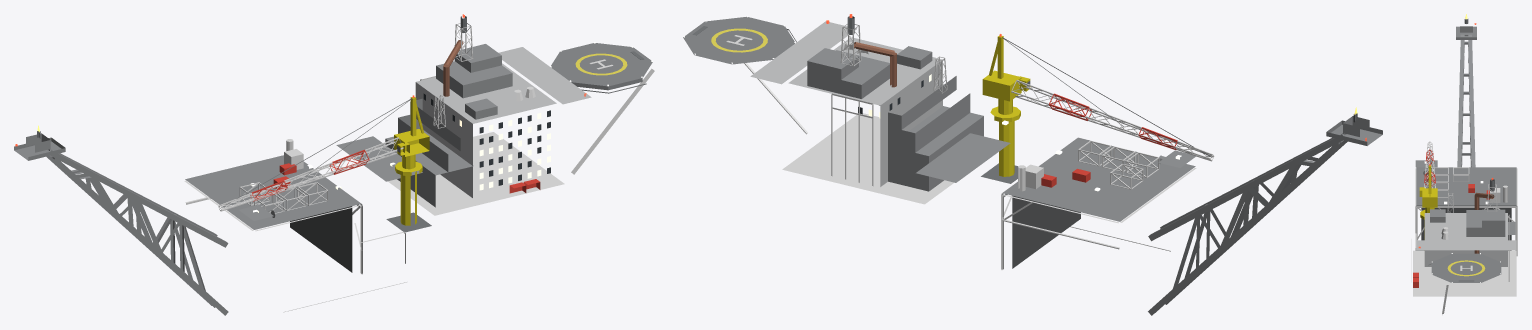
Rendered from platform.glb.
3 views of the same model, side by side, from view 1: azimuth 30°, elevation 25°; view 2: azimuth 150°, elevation 25°; view 3: azimuth 270°, elevation 25° (orthographic). The views are drawn at different scales.
Parts seen in each view (by area): view 1: Platform_PlatSteel, Platform_PlatWhite, Platform_PlatModule, Platform_PlatQuarters, Platform_PlatHelideck, Platform_PlatInterior, Platform_PlatCrane, Platform_PlatOrange, Platform_PlatGlass, Platform_PlatWindow, Platform_PlatDark; view 2: Platform_PlatSteel, Platform_PlatModule, Platform_PlatWhite, Platform_PlatQuarters, Platform_PlatHelideck, Platform_PlatInterior, Platform_PlatCrane, Platform_PlatOrange, Platform_PlatDark, Platform_PlatBrown; view 3: Platform_PlatSteel, Platform_PlatWhite, Platform_PlatQuarters, Platform_PlatModule, Platform_PlatHelideck, Platform_PlatCrane, Platform_PlatInterior, Platform_PlatOrange, Platform_PlatBrown, Platform_PlatMarking, Platform_PlatDark.
Part boxes in pixels (x1,y1,x2,y2): Platform_PlatSteel: (14,83,646,315); Platform_PlatWhite: (184,23,654,312); Platform_PlatModule: (26,44,512,220); Platform_PlatQuarters: (415,47,591,197); Platform_PlatHelideck: (551,43,652,90); Platform_PlatInterior: (290,206,352,272); Platform_PlatCrane: (394,97,429,225); Platform_PlatOrange: (250,149,540,201); Platform_PlatGlass: (423,93,550,185); Platform_PlatWindow: (459,113,550,190); Platform_PlatDark: (37,16,644,232); Platform_PlatSteel: (787,29,1382,315); Platform_PlatModule: (807,46,1369,197); Platform_PlatWhite: (726,24,1214,269); Platform_PlatQuarters: (750,21,942,186); Platform_PlatHelideck: (683,16,794,64); Platform_PlatInterior: (1012,195,1080,268); Platform_PlatCrane: (982,35,1030,176); Platform_PlatOrange: (1041,93,1177,187); Platform_PlatDark: (692,16,1357,183); Platform_PlatBrown: (854,42,896,87); Platform_PlatSteel: (1416,26,1516,265); Platform_PlatWhite: (1411,141,1517,314); Platform_PlatQuarters: (1416,213,1516,266); Platform_PlatModule: (1415,26,1515,236); Platform_PlatHelideck: (1431,253,1501,282); Platform_PlatCrane: (1419,165,1437,239); Platform_PlatInterior: (1421,208,1511,250); Platform_PlatOrange: (1413,149,1489,287); Platform_PlatBrown: (1474,192,1494,253); Platform_PlatMarking: (1447,260,1485,276); Platform_PlatDark: (1416,19,1494,281).
Bounding box in the file's own units: 200 × 70.51 × 40.85.
